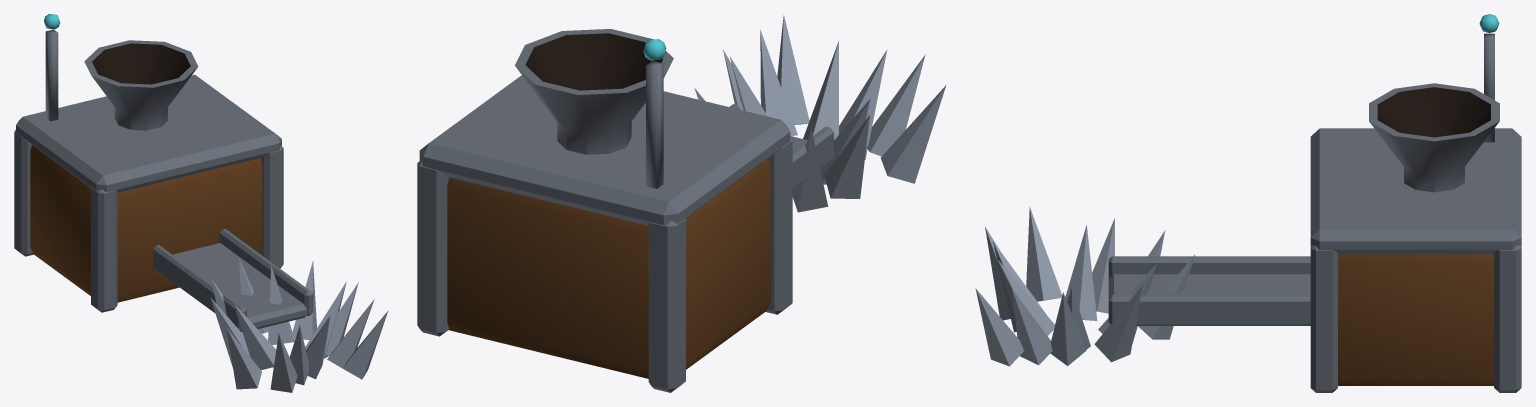
3 renders of one model, left to right at view 1: azimuth 30°, elevation 25°; view 2: azimuth 150°, elevation 25°; view 3: azimuth 270°, elevation 25°, orthographic. The views are drawn at different scales.
Parts seen in each view (by area): view 1: espinhos_0_base; view 2: espinhos_0_base; view 3: espinhos_0_base.
Boxes of the visible parts, x1,y1,x2,y2 form: espinhos_0_base: [14, 14, 388, 392]; espinhos_0_base: [417, 14, 946, 392]; espinhos_0_base: [975, 14, 1521, 392].
Bounding box in the file's own units: 0.56 × 0.6918 × 1.19.
